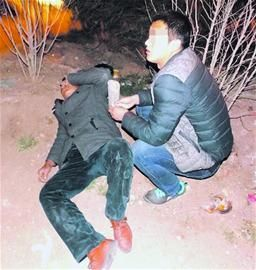fall: (33, 55, 142, 270)
